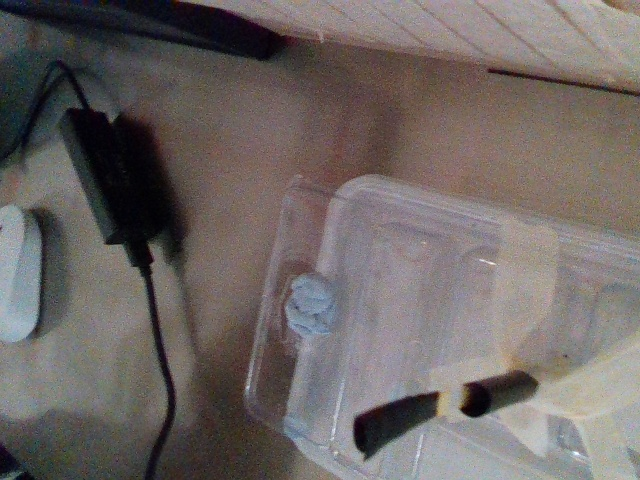test_strip: (348, 387, 466, 462)
